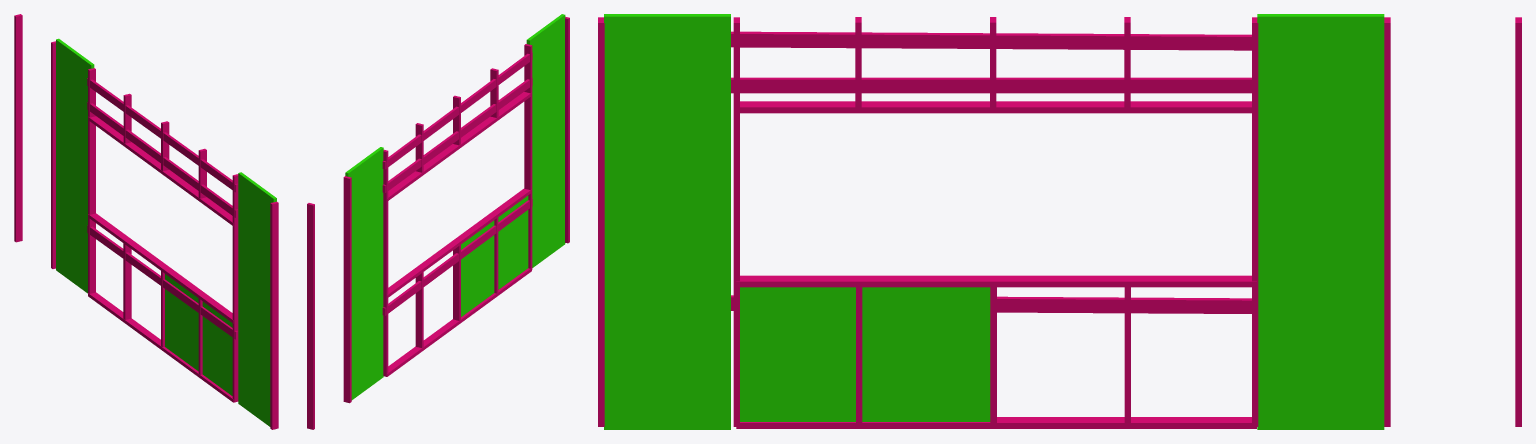
The model's file is BH03B_Wall_02_Break_B.fbx.
3 renders of one model, left to right at view 1: azimuth 30°, elevation 25°; view 2: azimuth 150°, elevation 25°; view 3: azimuth 270°, elevation 25°, orthographic. The views are drawn at different scales.
Visible parts, largest first — view 1: BH03B_Wall_02_Break_B; view 2: BH03B_Wall_02_Break_B; view 3: BH03B_Wall_02_Break_B.
Part boxes in pixels (box(x1,y1,x2,y2)): BH03B_Wall_02_Break_B: box(14, 14, 278, 429); BH03B_Wall_02_Break_B: box(307, 14, 569, 429); BH03B_Wall_02_Break_B: box(598, 14, 1521, 429).
Bounding box in the file's own units: 9.45 × 300 × 608.
